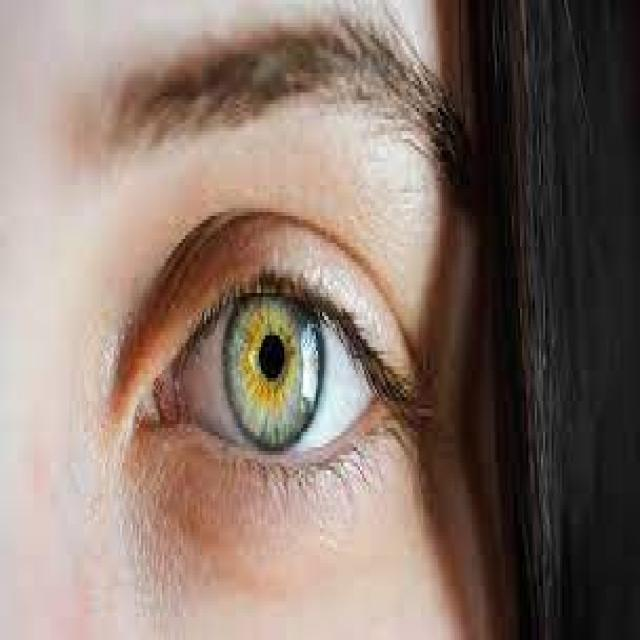Eyes-iris: (218, 283, 327, 456)
